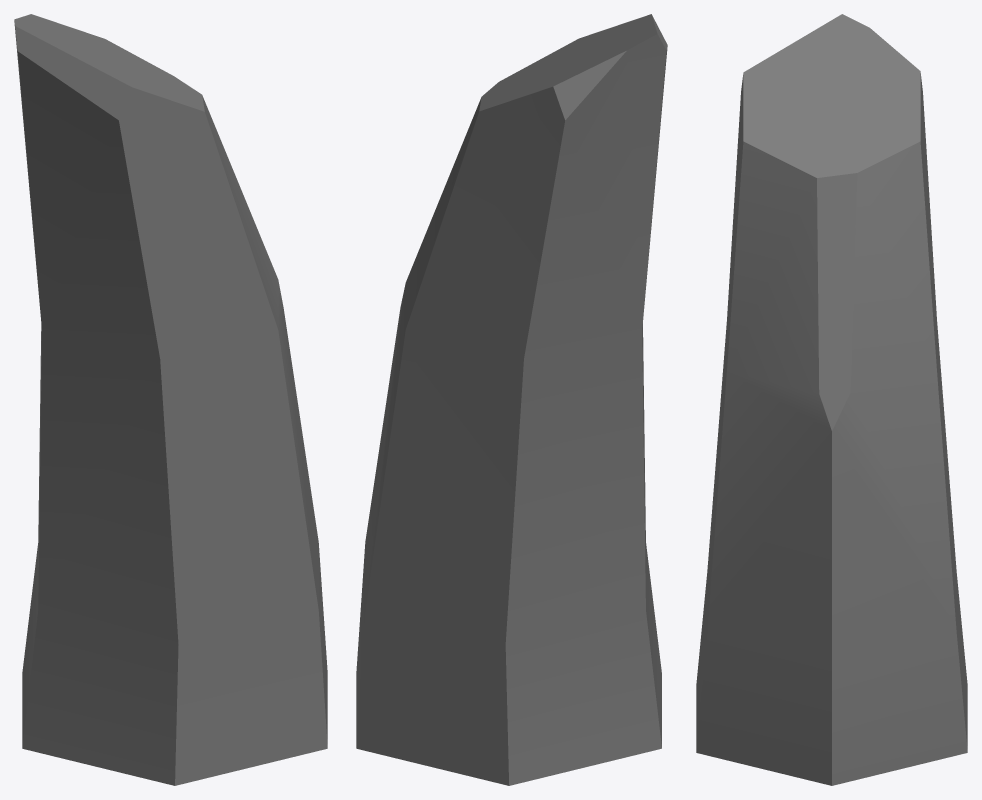
The model's file is rock17.fbx.
3 renders of one model, left to right at view 1: azimuth 30°, elevation 25°; view 2: azimuth 150°, elevation 25°; view 3: azimuth 270°, elevation 25°, orthographic. The views are drawn at different scales.
Parts seen in each view (by area): view 1: rock9; view 2: rock9; view 3: rock9.
Part boxes in pixels (box(x1,y1,x2,y2)): rock9: box(14, 14, 327, 785); rock9: box(356, 14, 667, 785); rock9: box(696, 14, 967, 785).
Size of the model in its own units: 1616 by 3579 by 1379.
1 material, 1 textured.
